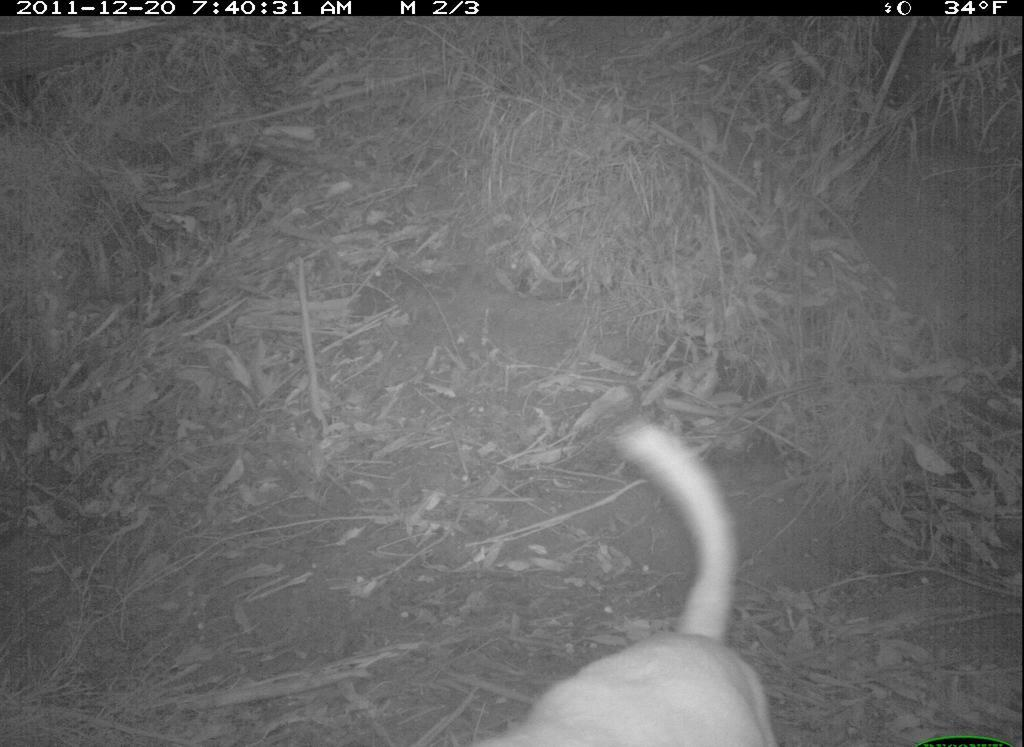dog: (419, 421, 799, 747)
